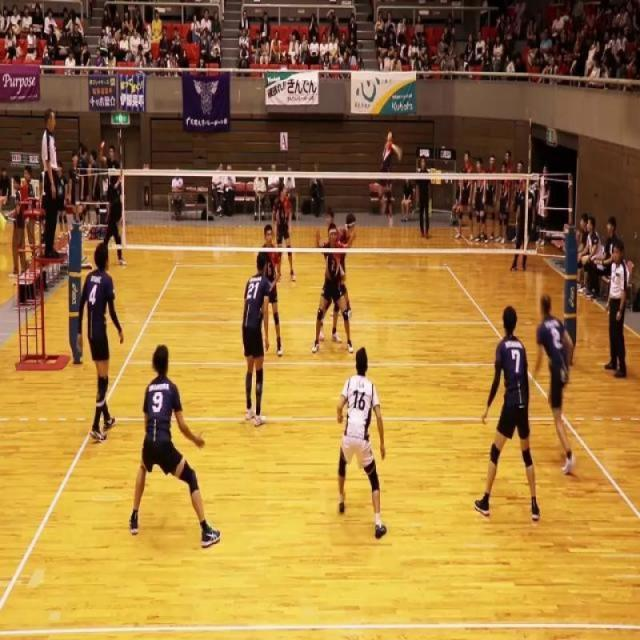volleyball: (384, 56, 391, 73)
